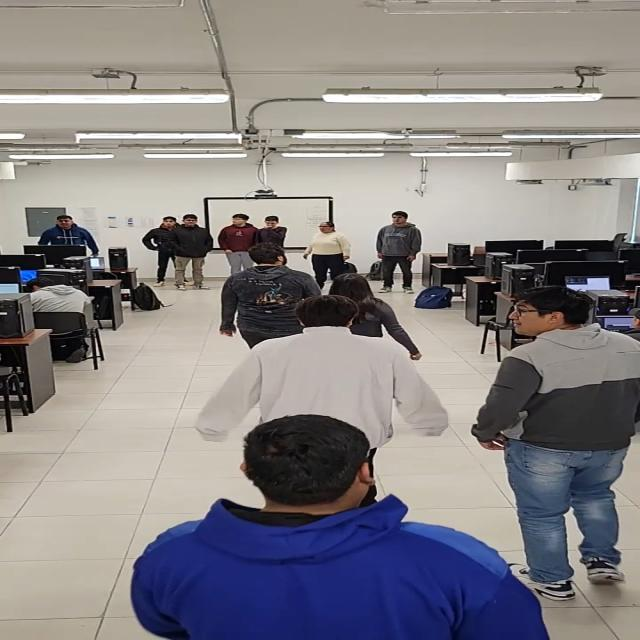Persona: (140, 416, 544, 640), (475, 283, 640, 600), (249, 292, 410, 416), (226, 243, 302, 333), (376, 207, 421, 292), (308, 217, 354, 277), (180, 210, 209, 296), (144, 211, 178, 283), (220, 210, 254, 266), (255, 213, 289, 241)
